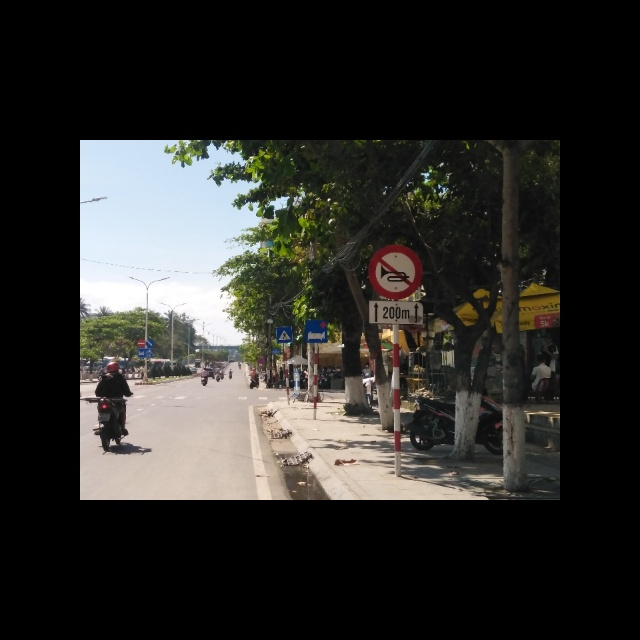Bệnh viện: (305, 320, 329, 343)
Cấm bấm còi: (370, 245, 422, 301)
Đường dành cho người đi bộ: (276, 326, 292, 342)
